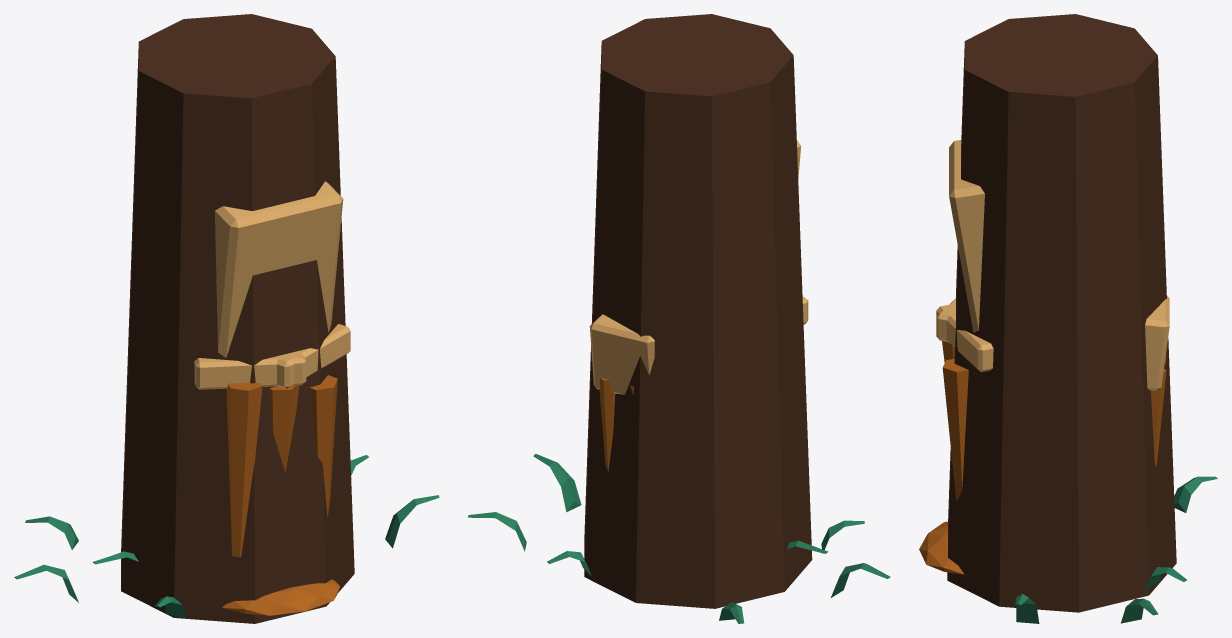
The model's file is resin_node.glb.
3 renders of one model, left to right at view 1: azimuth 30°, elevation 25°; view 2: azimuth 150°, elevation 25°; view 3: azimuth 270°, elevation 25°, orthographic. The views are drawn at different scales.
Parts seen in each view (by area): view 1: resin_node.001; view 2: resin_node.001; view 3: resin_node.001.
Boxes of the visible parts, x1=… form: resin_node.001: x1=14, y1=14, x2=439, y2=623; resin_node.001: x1=468, y1=14, x2=890, y2=623; resin_node.001: x1=919, y1=14, x2=1217, y2=623.
Size of the model in its own units: 0.5891 by 0.74 by 0.3946.
